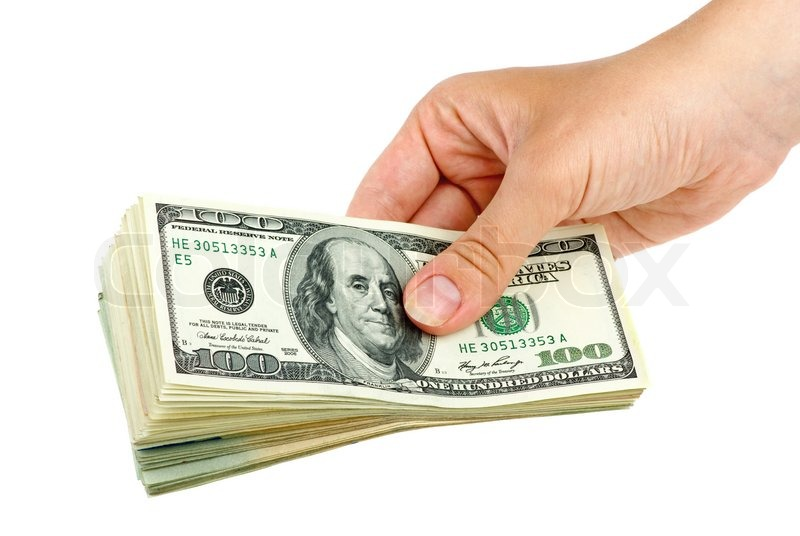billete: (88, 186, 657, 500)
